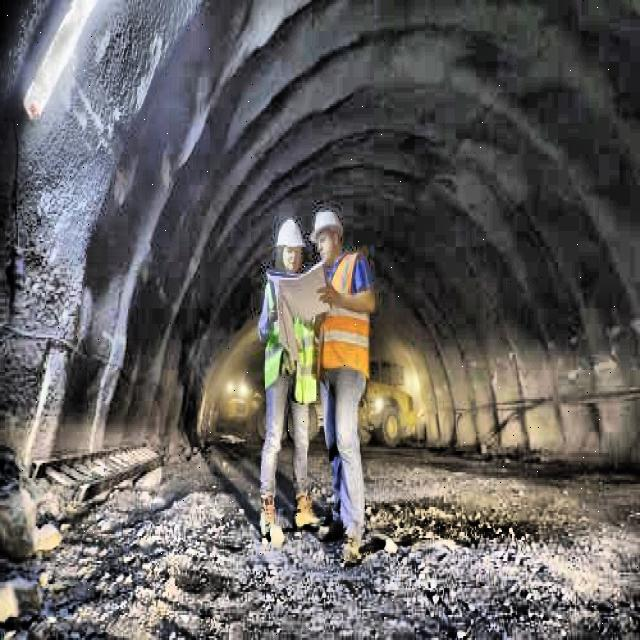helmet: (274, 214, 308, 278), (311, 204, 343, 264)
